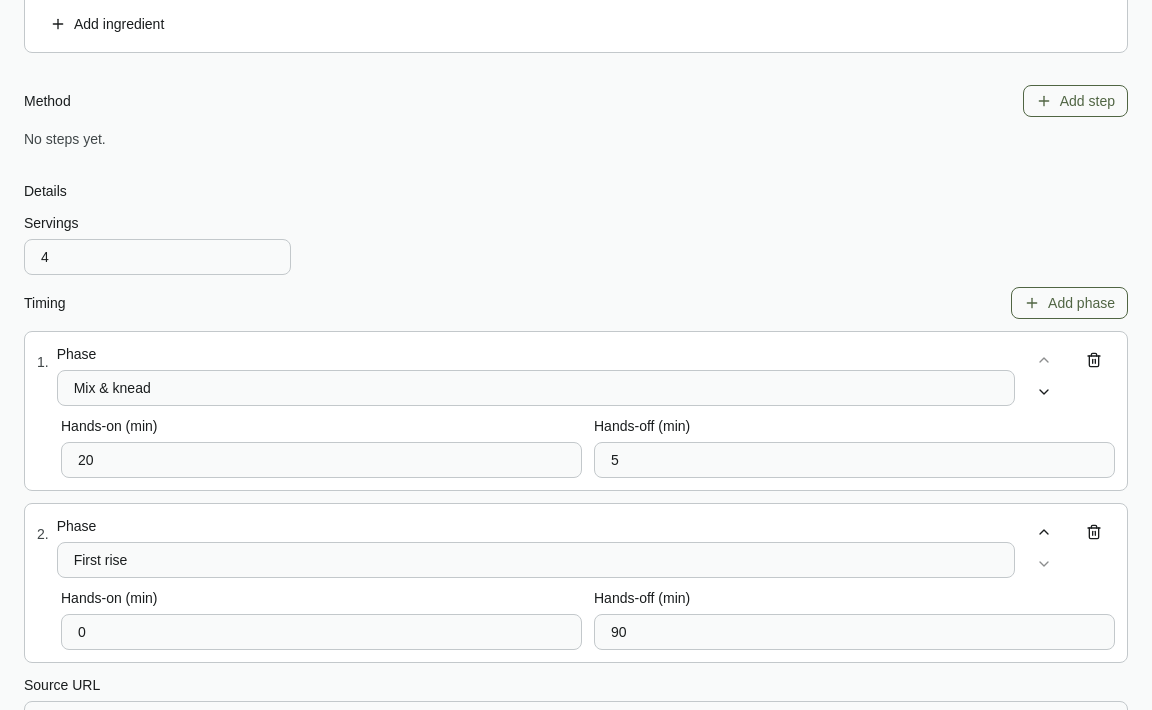
Test: RecipeEditPage — a minute box whose phase changes underneath it › re-seeds when the row above it is deleted
The image size is (1152, 710).
(page scrolled)
Click the button named "Remove phase" in the row of "1.".
click(1094, 360)  # box [1073,344,1115,376]
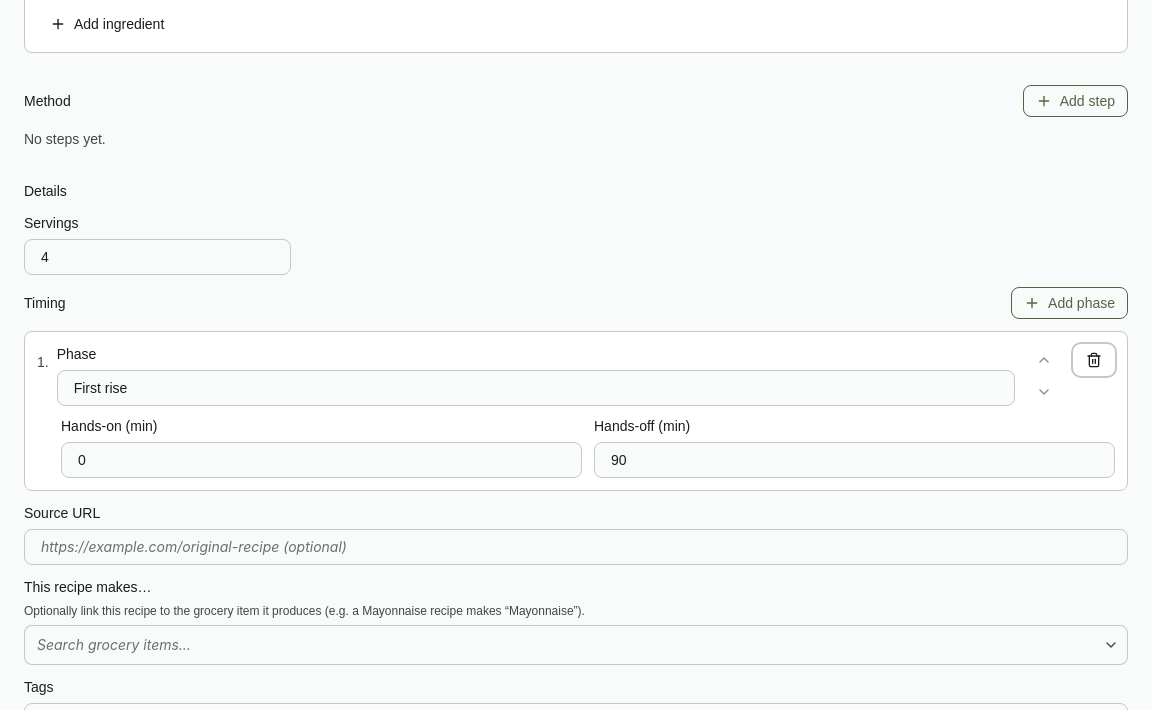
Expected: the field with test id "recipe-phase-hands-on-input" holds "0", [78,450,565,470]
Expected: the field with test id "recipe-phase-hands-off-input" holds "90", [611,450,1098,470]
